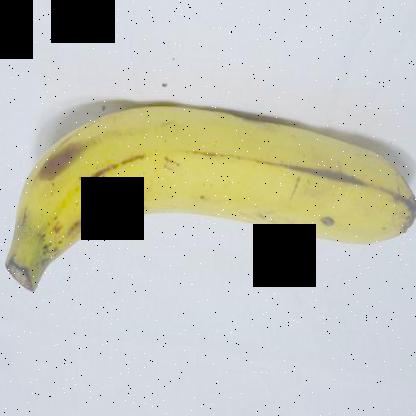ripe: (2, 93, 415, 323)
